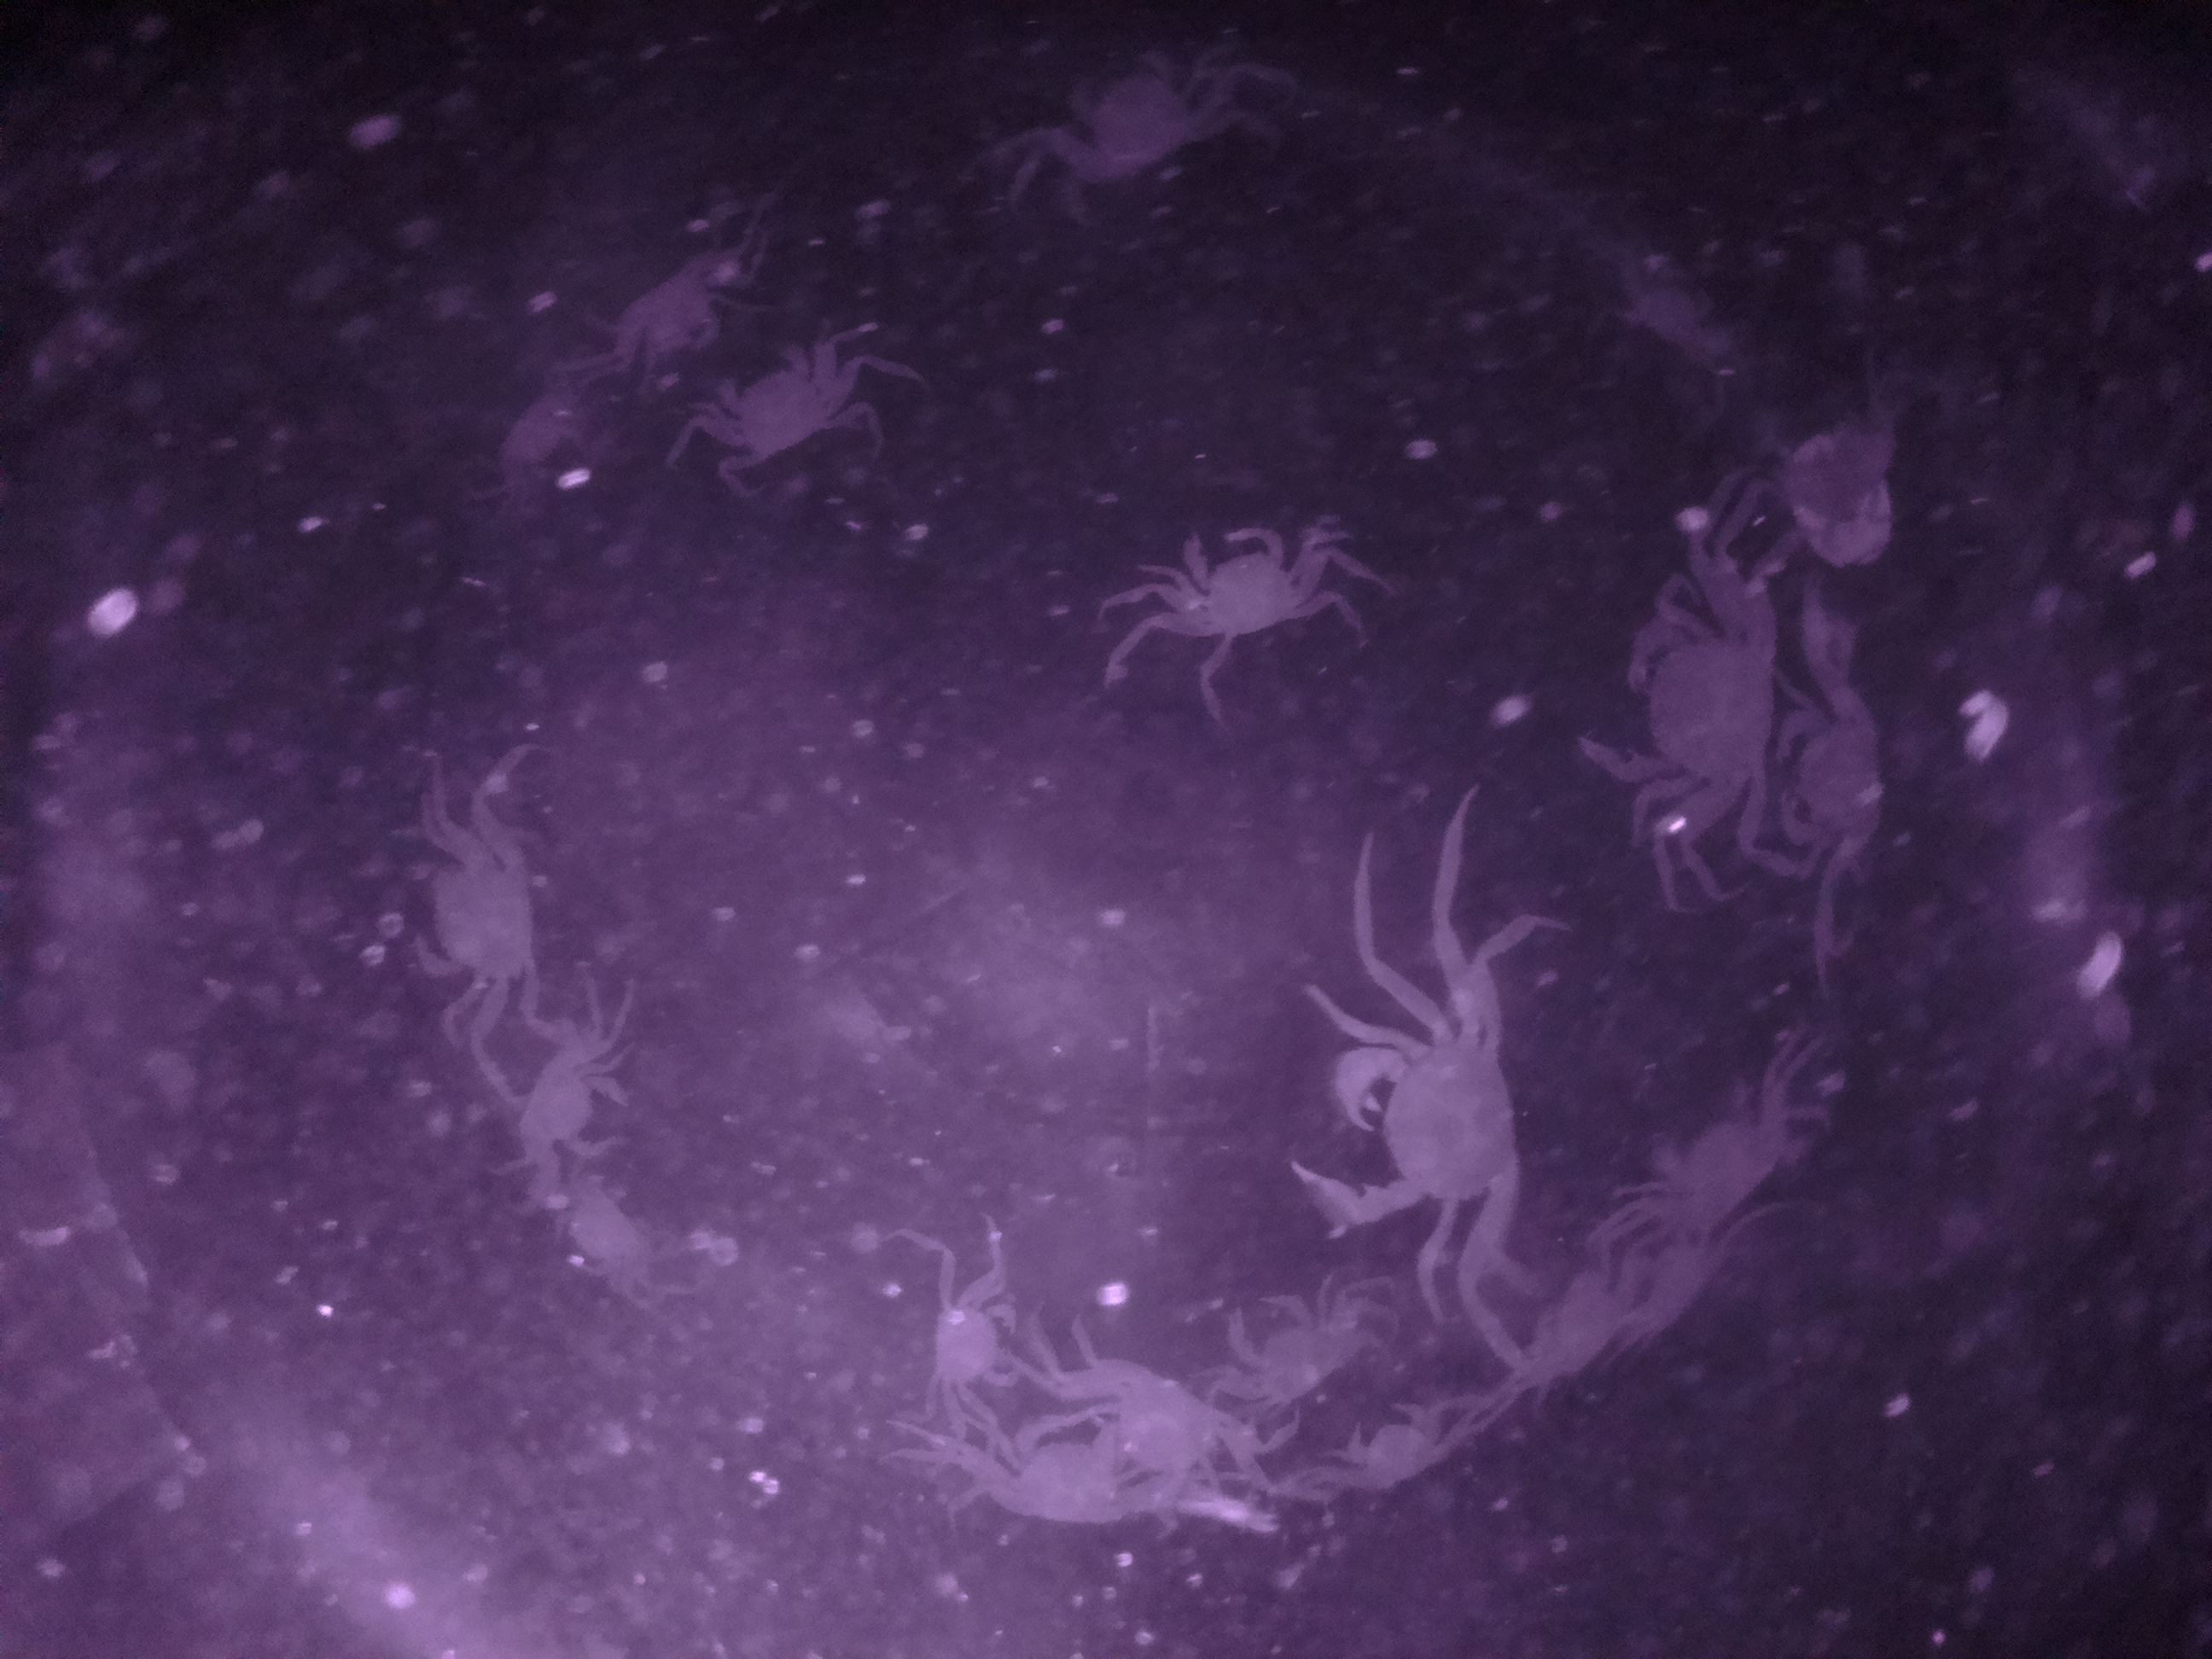Crab: (1280, 986, 1533, 1253), (1566, 589, 1803, 809), (409, 833, 554, 1014), (1212, 1270, 1362, 1434), (1777, 674, 1916, 849), (1157, 519, 1327, 655), (512, 1021, 643, 1182), (698, 331, 850, 469), (911, 1267, 1024, 1413), (1332, 1380, 1453, 1502)
